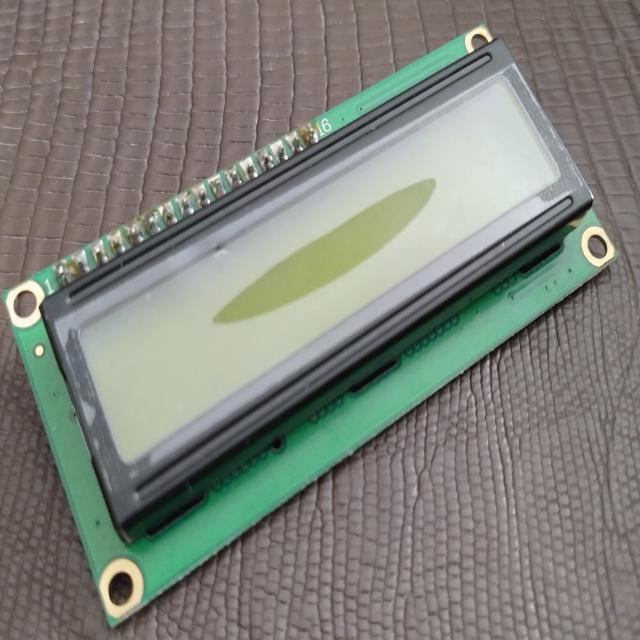lcd: (0, 24, 640, 599)
